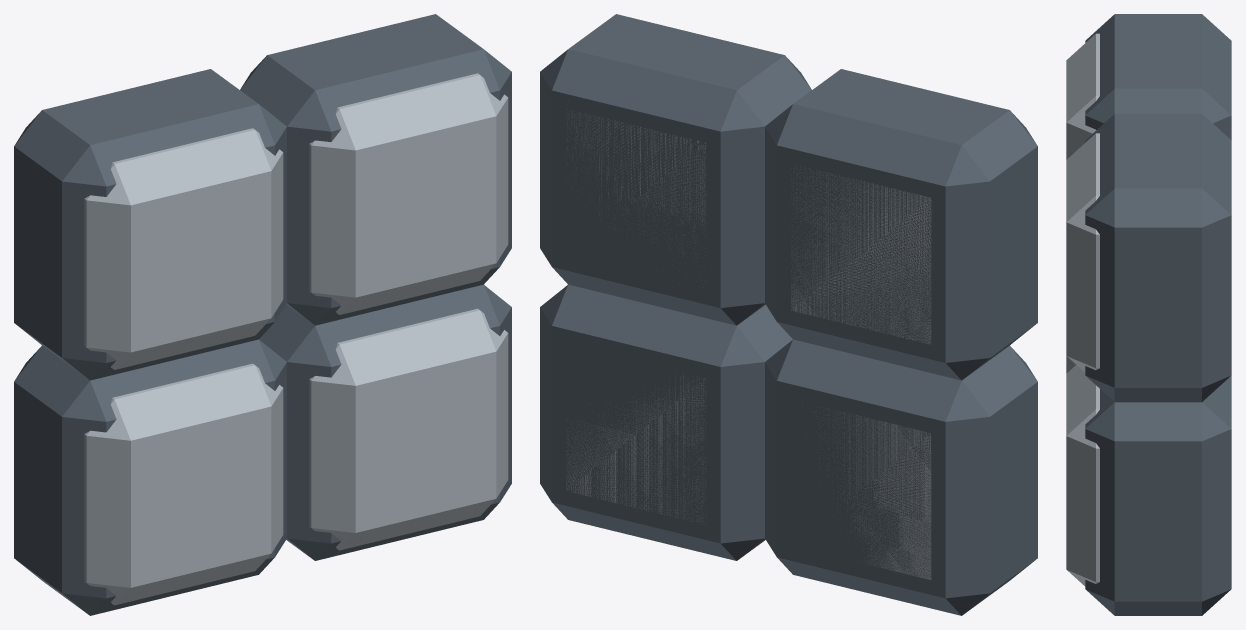
File: Terrain_Block2x2.gltf
3 views of the same model, side by side, from view 1: azimuth 30°, elevation 25°; view 2: azimuth 150°, elevation 25°; view 3: azimuth 270°, elevation 25° (orthographic). The views are drawn at different scales.
Parts seen in each view (by area): view 1: Terrain_Block2x2_baked; view 2: Terrain_Block2x2_baked; view 3: Terrain_Block2x2_baked.
Boxes of the visible parts, x1=… form: Terrain_Block2x2_baked: x1=14, y1=14, x2=511, y2=615; Terrain_Block2x2_baked: x1=540, y1=14, x2=1037, y2=615; Terrain_Block2x2_baked: x1=1066, y1=14, x2=1231, y2=615.
Size of the model in its own units: 2 by 2 by 0.7.
